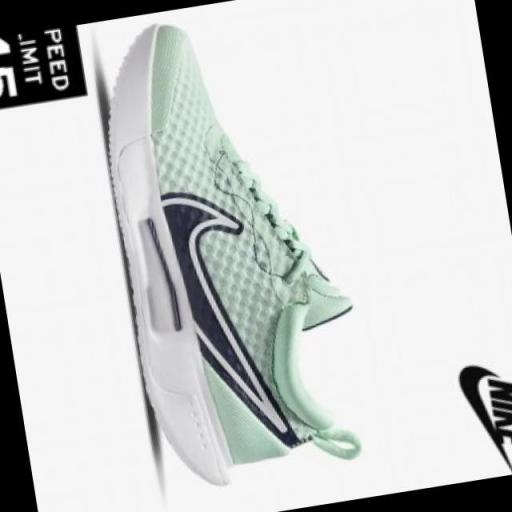Nike: (454, 360, 504, 461), (483, 373, 512, 454)
